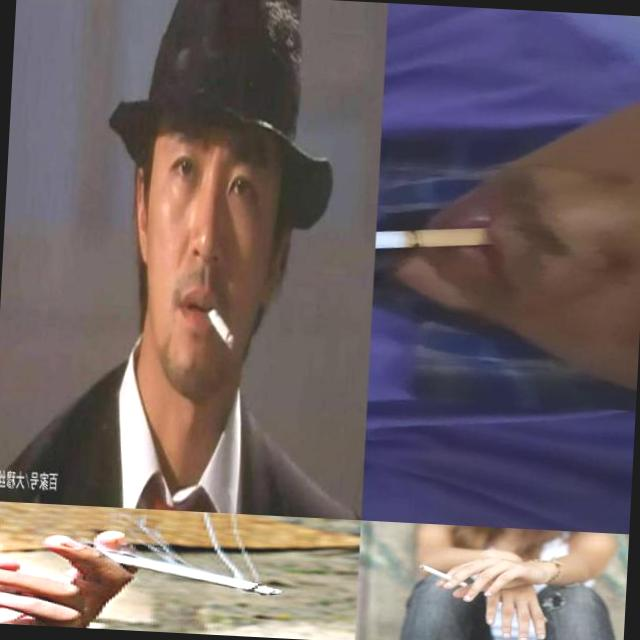smoke: (110, 552, 290, 596), (376, 224, 496, 272), (200, 298, 236, 351), (416, 563, 467, 588)
